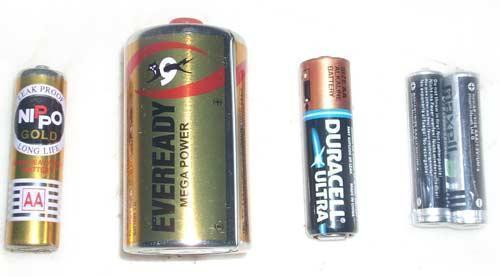AA: (1, 63, 70, 255), (297, 53, 360, 245), (444, 68, 490, 230), (405, 67, 450, 230)
